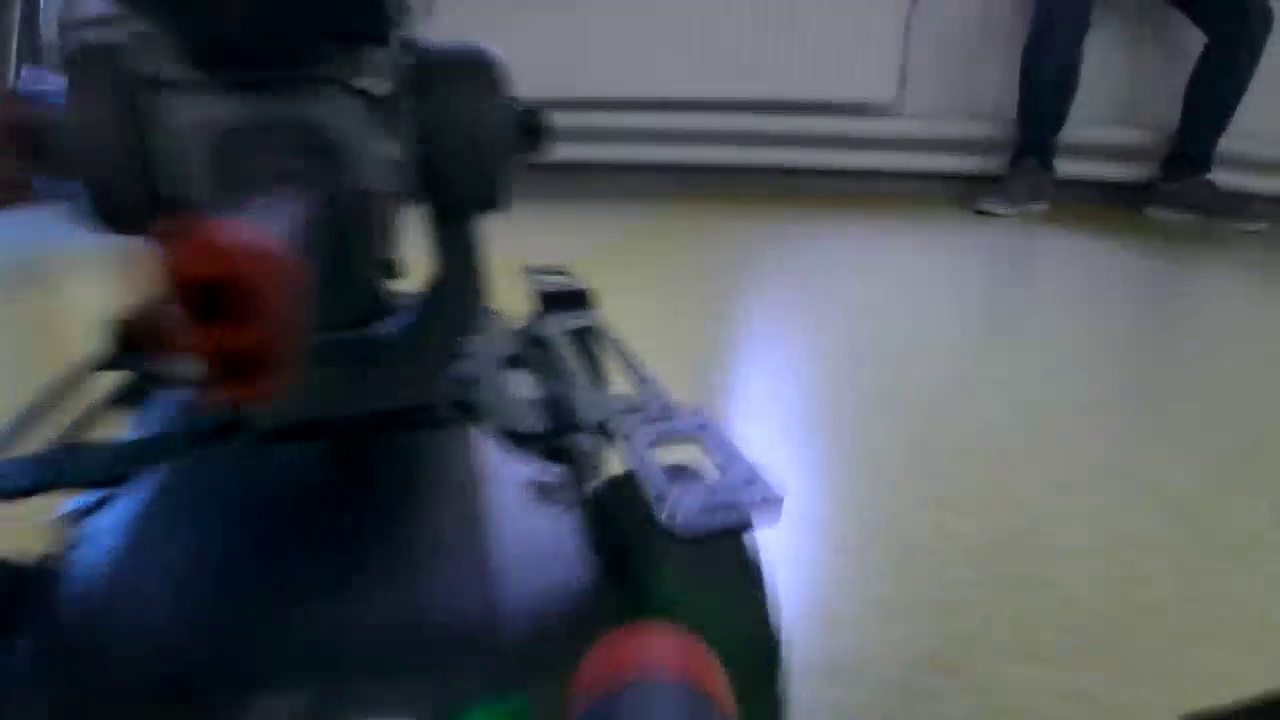robot: (27, 1, 783, 705)
